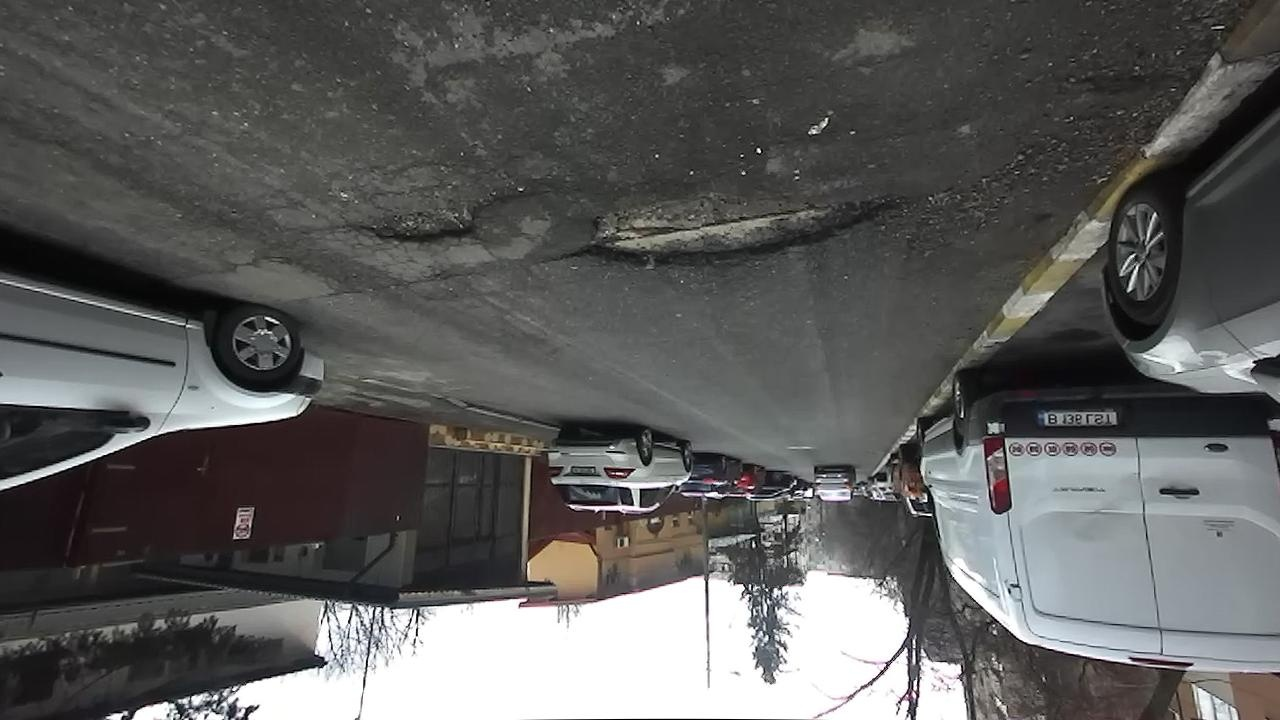pothole: (561, 178, 925, 273), (343, 190, 528, 250)
